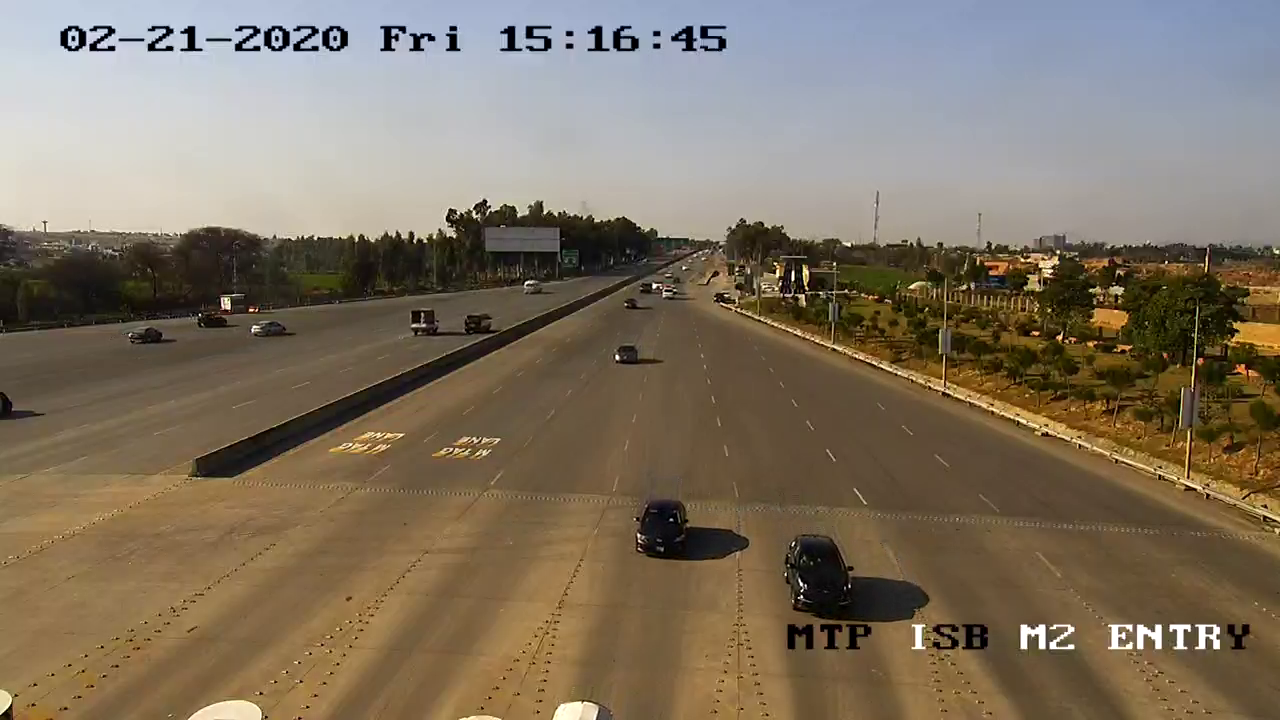f1: (775, 530, 870, 616), (627, 492, 703, 567)
